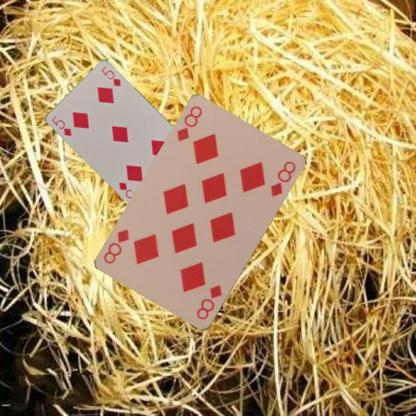5d: (48, 112, 73, 138)
8d: (194, 282, 224, 322), (174, 104, 204, 144)
